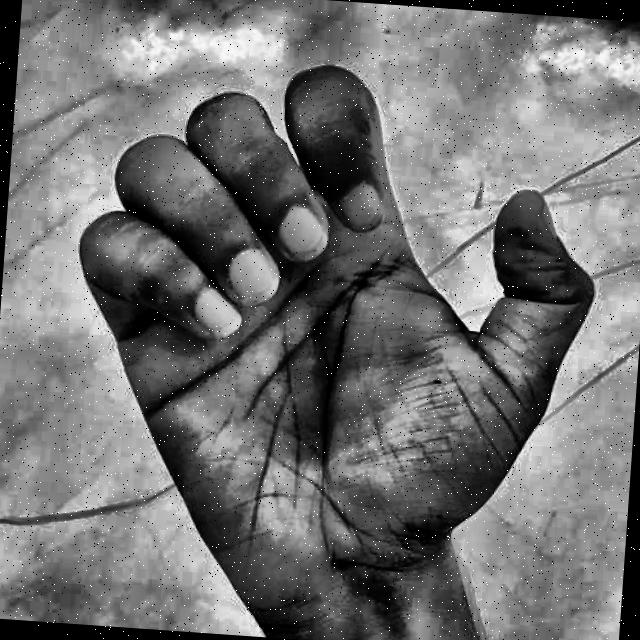Dho: (38, 25, 622, 634)
